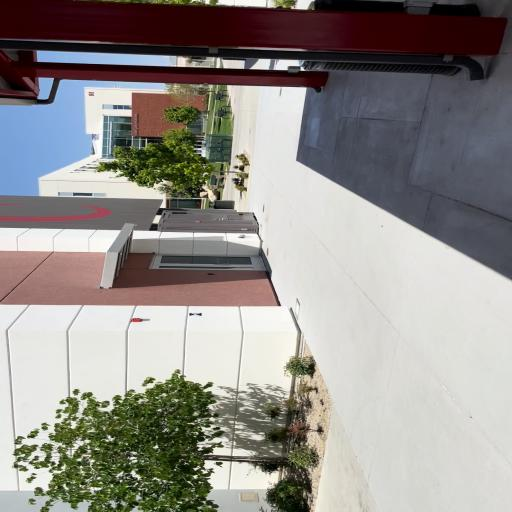target2: (189, 312, 202, 316)
